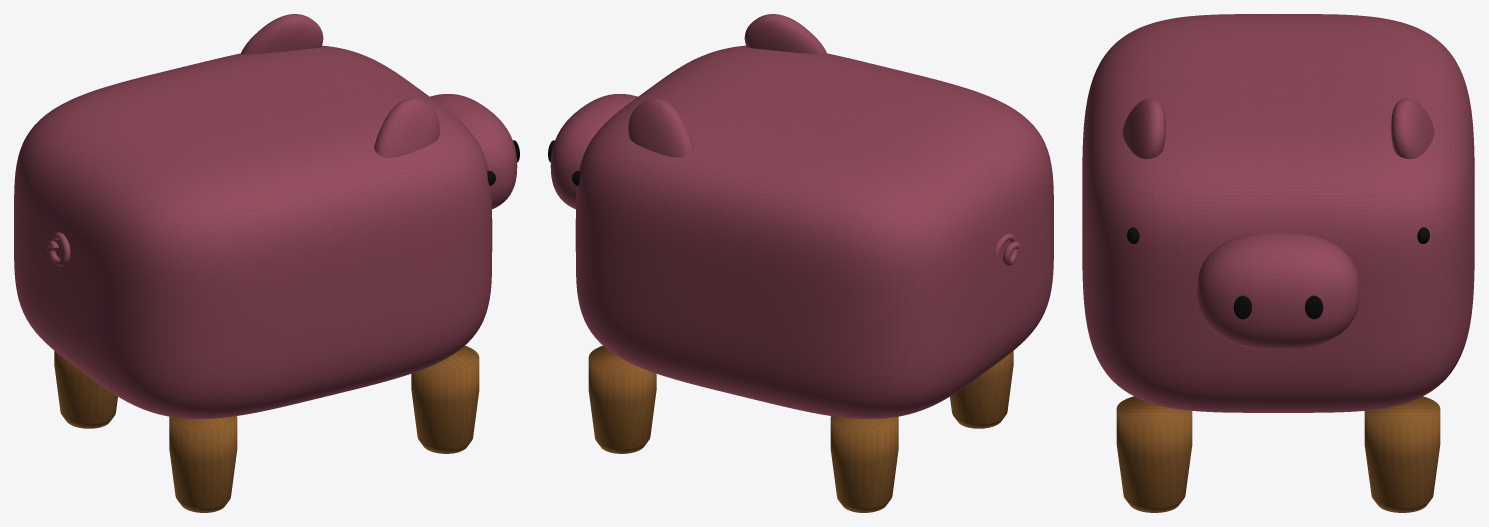
Rendered from critter-sitters-pig-ottoman.glb.
3 views of the same model, side by side, from view 1: azimuth 30°, elevation 25°; view 2: azimuth 150°, elevation 25°; view 3: azimuth 270°, elevation 25° (orthographic). The views are drawn at different scales.
Parts seen in each view (by area): view 1: Rounded stuffed pig body, Tapered oak pig leg, Tapered oak pig leg.002, Padded pig snout, Tapered oak pig leg.001, Soft folded pig ear, Soft folded pig ear.001; view 2: Rounded stuffed pig body, Tapered oak pig leg.001, Tapered oak pig leg.003, Padded pig snout, Tapered oak pig leg, Soft folded pig ear.001, Soft folded pig ear; view 3: Rounded stuffed pig body, Padded pig snout, Tapered oak pig leg.002, Tapered oak pig leg.003, Soft folded pig ear, Soft folded pig ear.001.
Part boxes in pixels (left/top/right/bottom): Rounded stuffed pig body: left=14, top=45, right=492, bottom=418; Tapered oak pig leg: left=169, top=416, right=237, bottom=512; Tapered oak pig leg.002: left=411, top=345, right=479, bottom=453; Padded pig snout: left=430, top=94, right=517, bottom=209; Tapered oak pig leg.001: left=54, top=351, right=117, bottom=428; Soft folded pig ear: left=374, top=98, right=439, bottom=157; Soft folded pig ear.001: left=241, top=14, right=323, bottom=54; Rounded stuffed pig body: left=575, top=45, right=1053, bottom=418; Tapered oak pig leg.001: left=830, top=416, right=898, bottom=512; Tapered oak pig leg.003: left=588, top=345, right=656, bottom=453; Padded pig snout: left=550, top=94, right=637, bottom=209; Tapered oak pig leg: left=950, top=351, right=1013, bottom=428; Soft folded pig ear.001: left=628, top=98, right=693, bottom=157; Soft folded pig ear: left=744, top=14, right=826, bottom=54; Rounded stuffed pig body: left=1082, top=14, right=1474, bottom=412; Padded pig snout: left=1197, top=232, right=1359, bottom=349; Tapered oak pig leg.002: left=1116, top=396, right=1192, bottom=512; Tapered oak pig leg.003: left=1364, top=396, right=1440, bottom=512; Soft folded pig ear: left=1122, top=98, right=1165, bottom=158; Soft folded pig ear.001: left=1391, top=98, right=1434, bottom=158.
Bounding box in the file's own units: 0.508 × 0.381 × 0.3556.
Materials: 3 (2 with a texture image).
